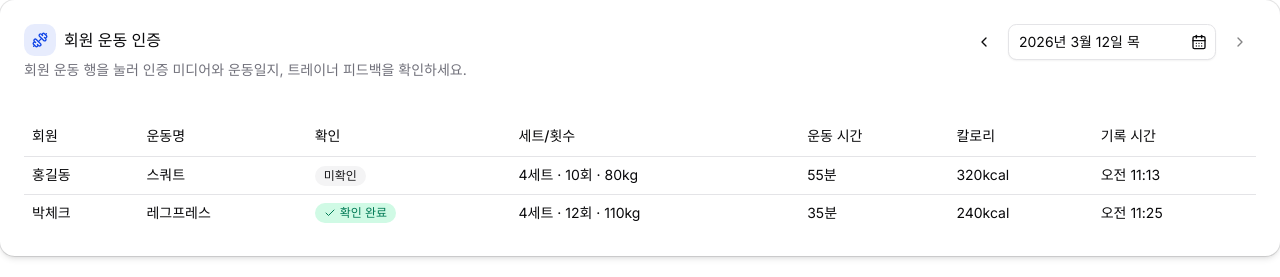
it: WorkoutMemberTable › 이전 날짜로 이동하면 해당 날짜의 운동 인증 기록을 조회한다
Step 1. Click the button named "이전 운동 인증 날짜" → (984, 42), box 968,26 -> 1000,58
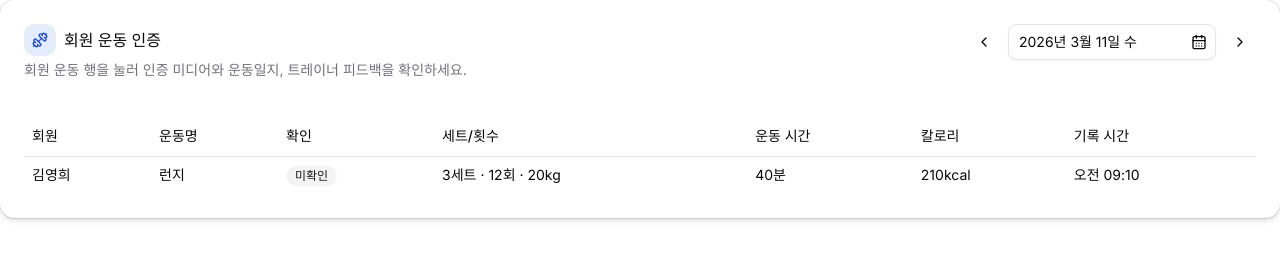
Now the text "김영희" is shown, box 24,156 -> 151,194
